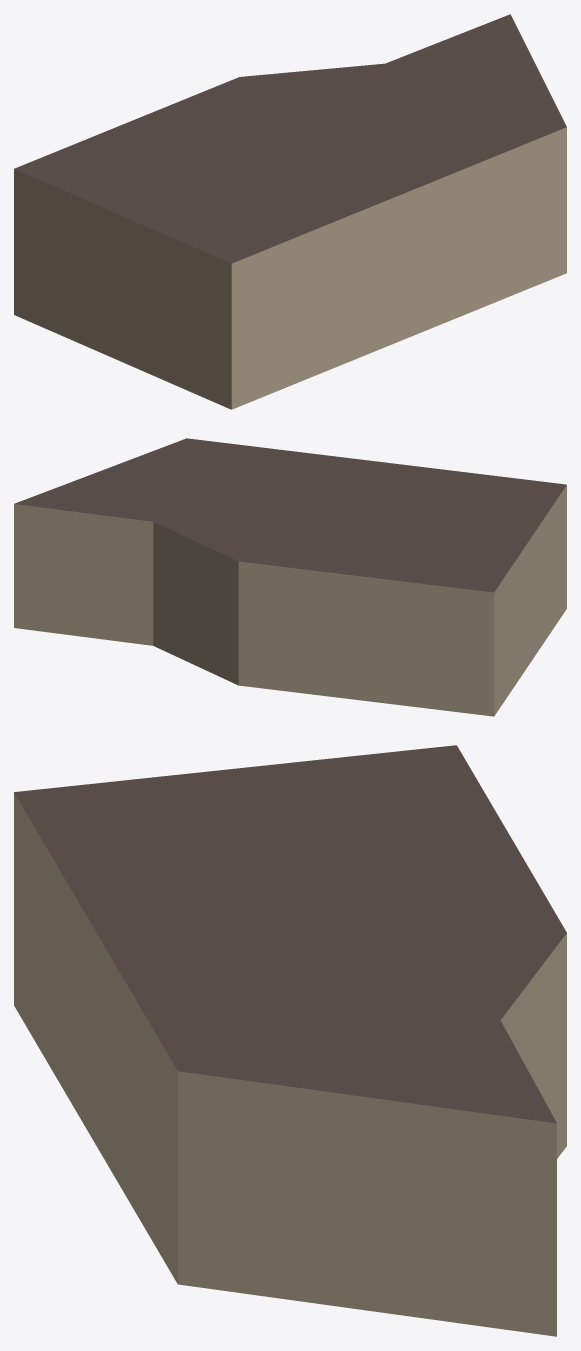
The picture shows the model from 3 angles, top to bottom: view 1: azimuth 30°, elevation 25°; view 2: azimuth 150°, elevation 25°; view 3: azimuth 270°, elevation 25°; orthographic projection. The views are drawn at different scales.
Visible parts, largest first — view 1: HP-w293397517; view 2: HP-w293397517; view 3: HP-w293397517.
Part boxes in pixels (box(x1,y1,x2,y2)): HP-w293397517: box(14, 14, 566, 409); HP-w293397517: box(14, 438, 566, 716); HP-w293397517: box(14, 745, 566, 1336).
Bounding box in the file's own units: 34.23 × 9 × 21.14.
